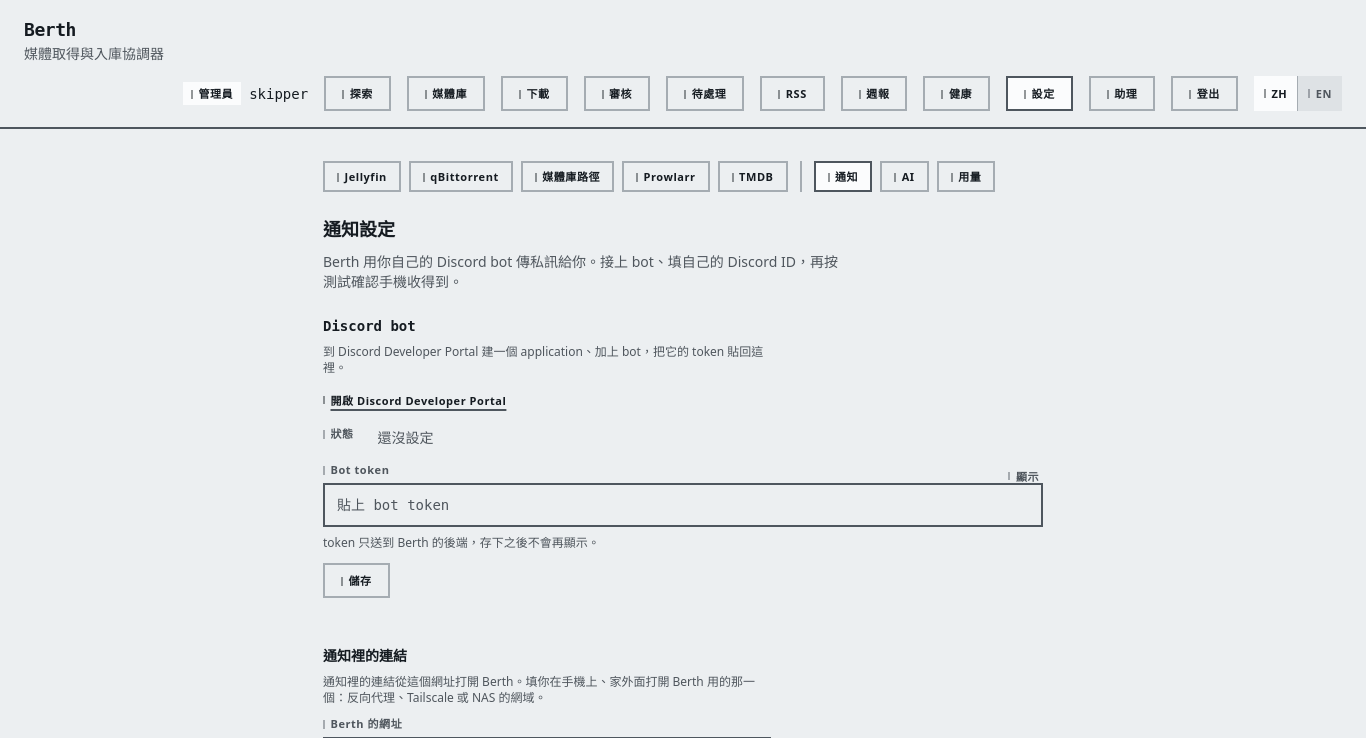
Test case: 設定 → 通知 › discord_unreachable：說連不上，原文收進技術細節
In the password field labelled "Bot token": (683, 505) [323,483,1043,527], type "some-token"
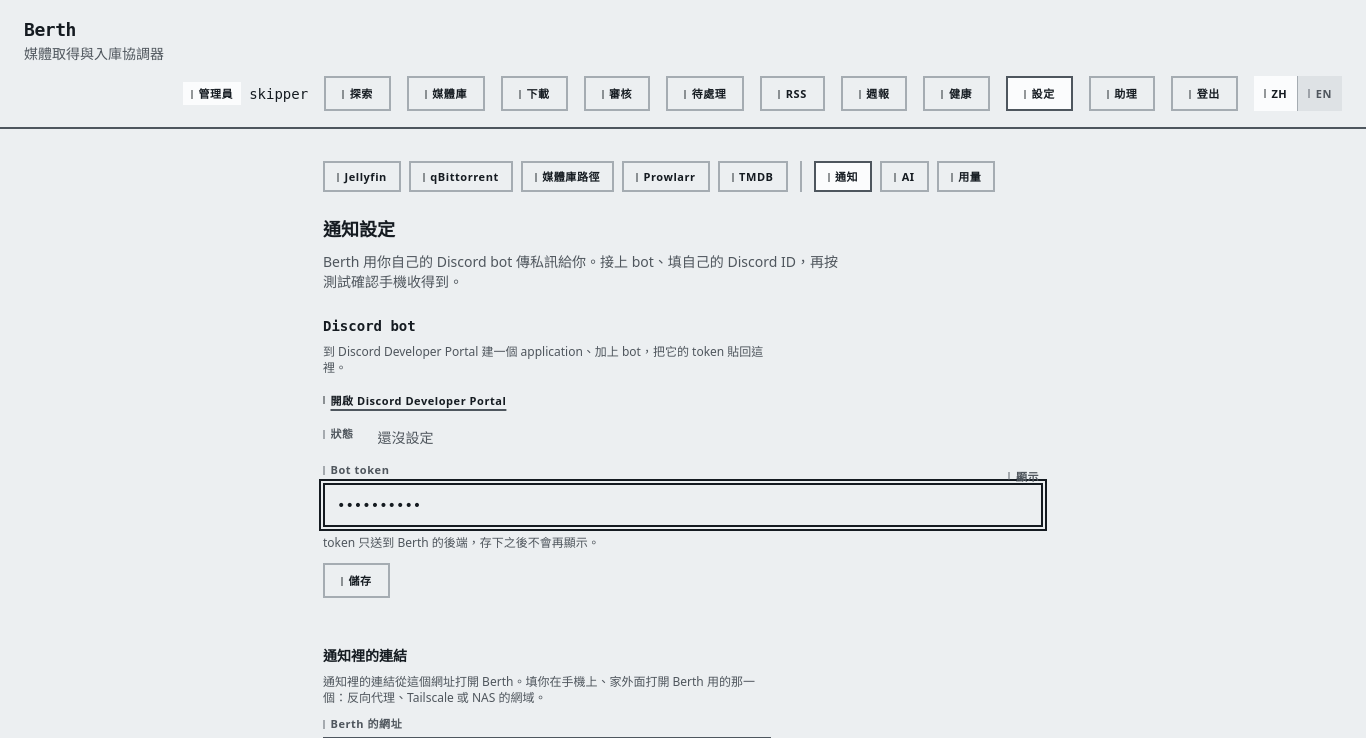
Click the button "儲存": (356, 580) [323,563,390,598]
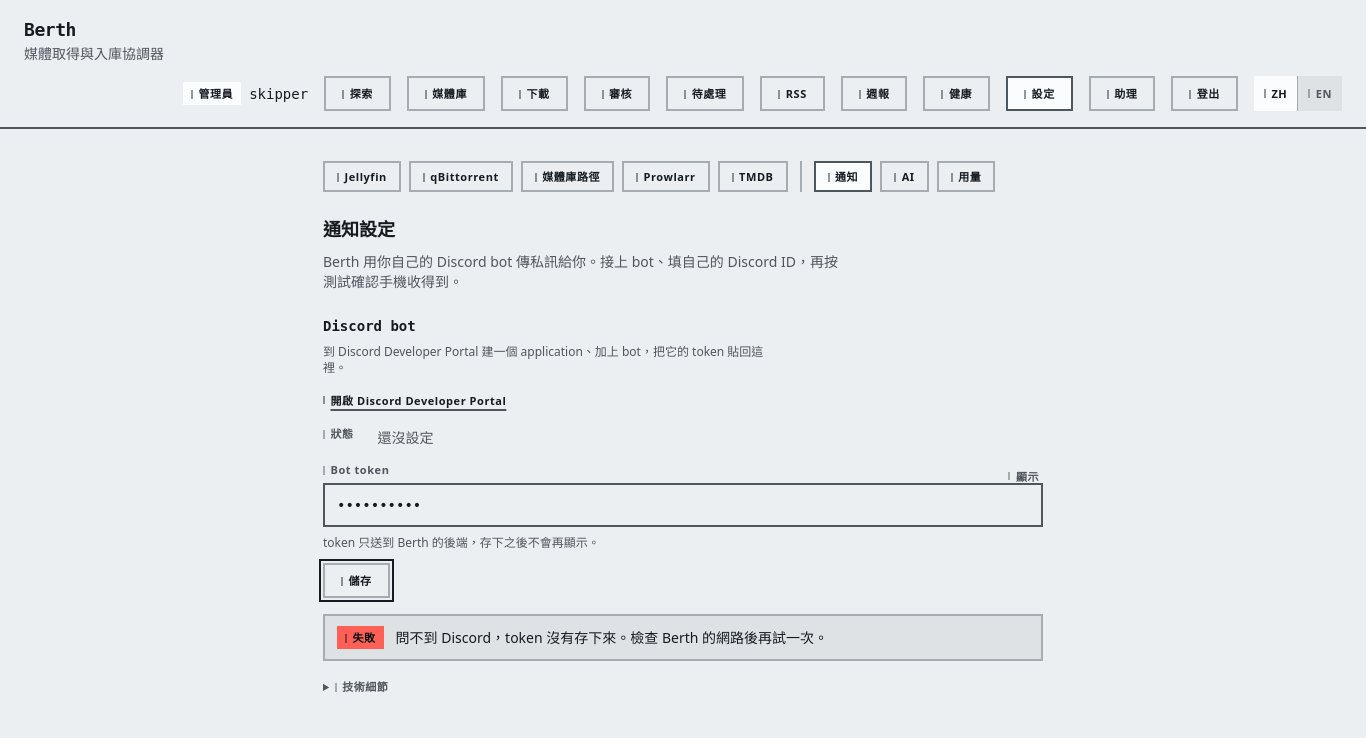
Check: the text "問不到 Discord，token 沒有存下來。檢查 Berth 的網路後再試一次。" is shown, box [396,628,828,646]
